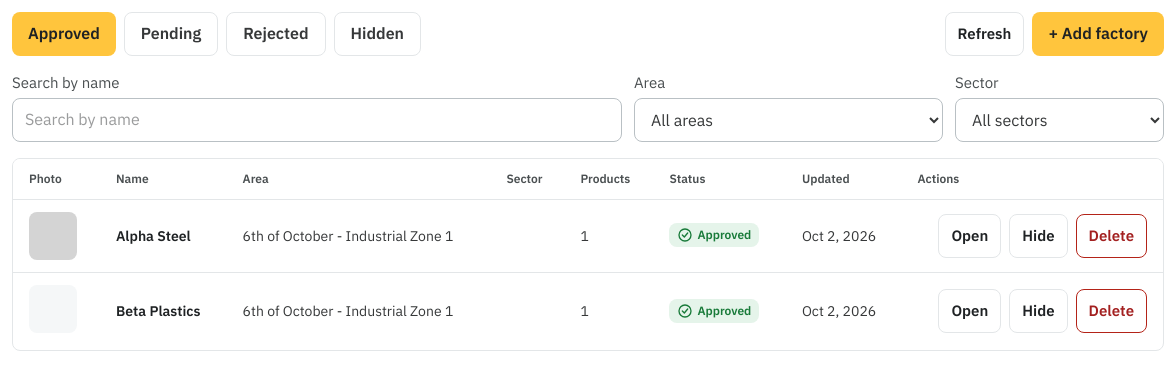
Test: FactoriesPage › hides a factory, removes the row and shows a success banner
Expected: the text "Alpha Steel" is shown, [116,227,191,245]
Click the button with aria-label "Hide Alpha Steel" at (1038, 236), box [1009,214,1068,258]
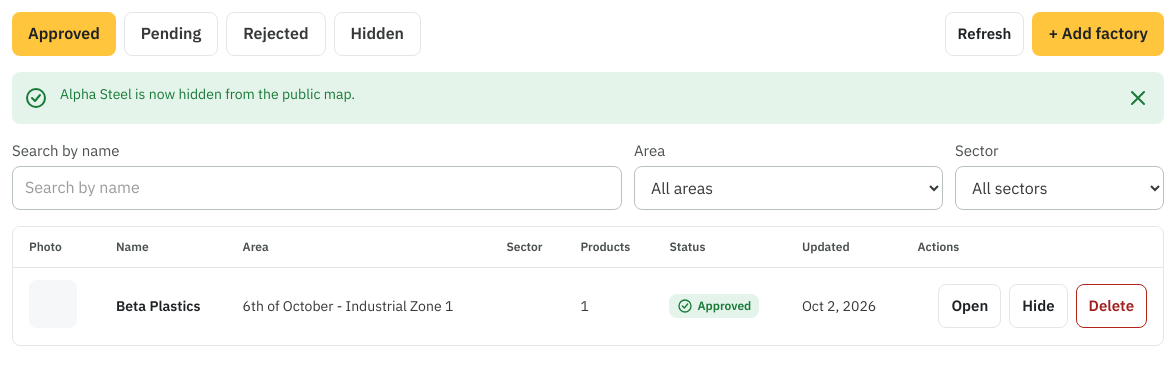
Expected: the text "Alpha Steel is now hidden from the public map." is shown, [60,85,355,103]
